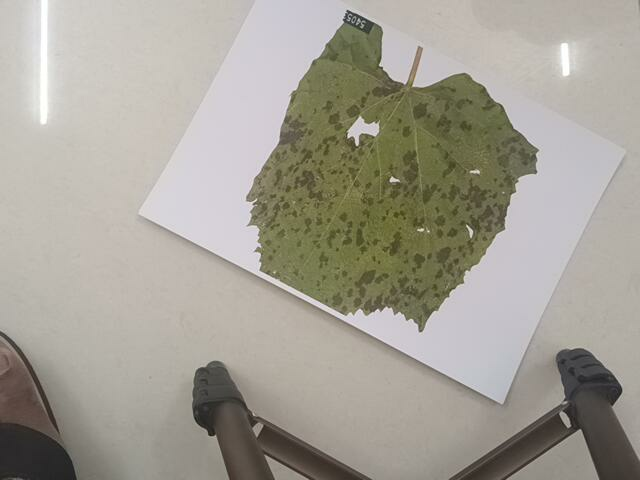Grape_Blight_Leaf: (243, 5, 558, 332)
